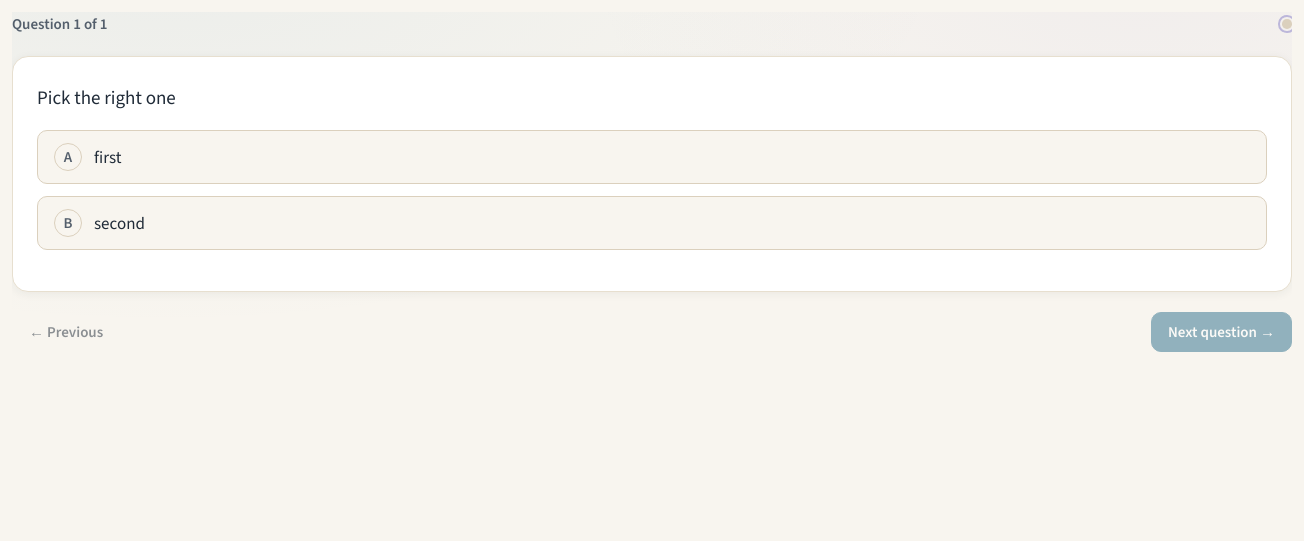
Test: ExercisePanel renders built-in interactions through the registry › grades a multiple-choice exercise as before
Click the button "B second".
click(119, 223)  # box [37,196,1267,250]
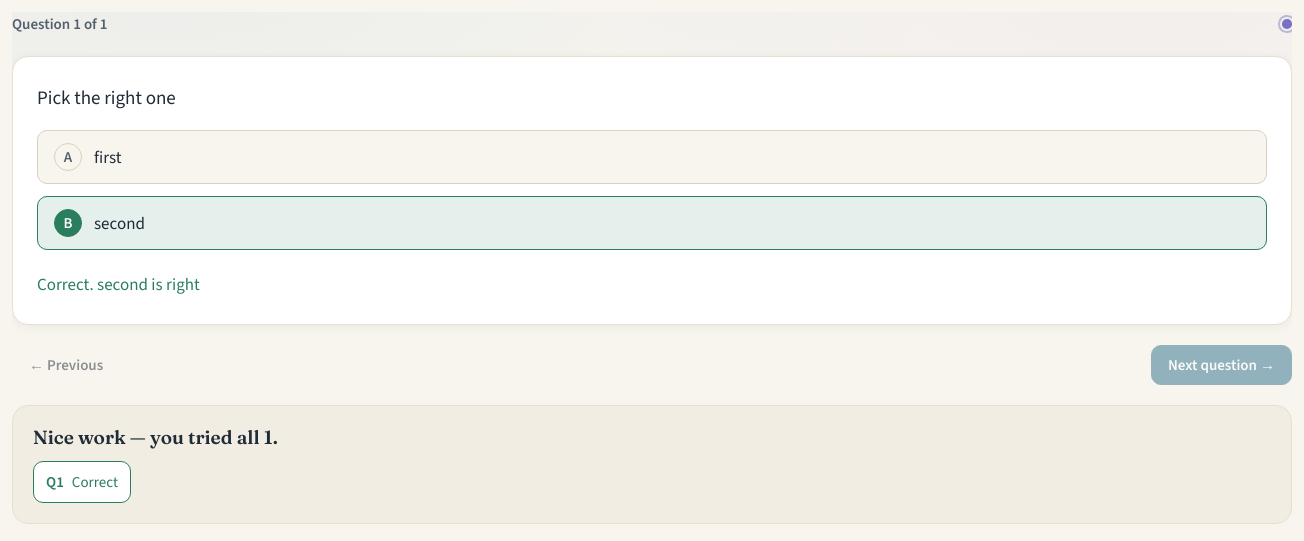
Expected: the text "Correct." is shown, [37,273,200,296]
Expected: the text "second is right" is shown, [37,273,200,296]
